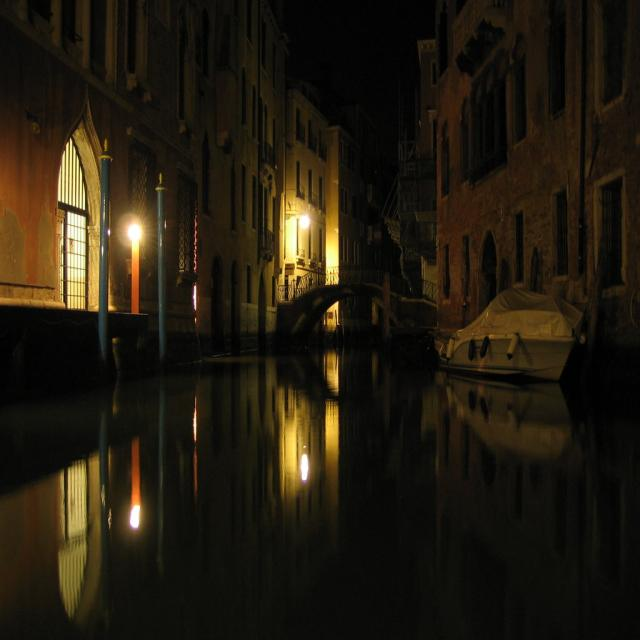Boat: (442, 246, 638, 432)
